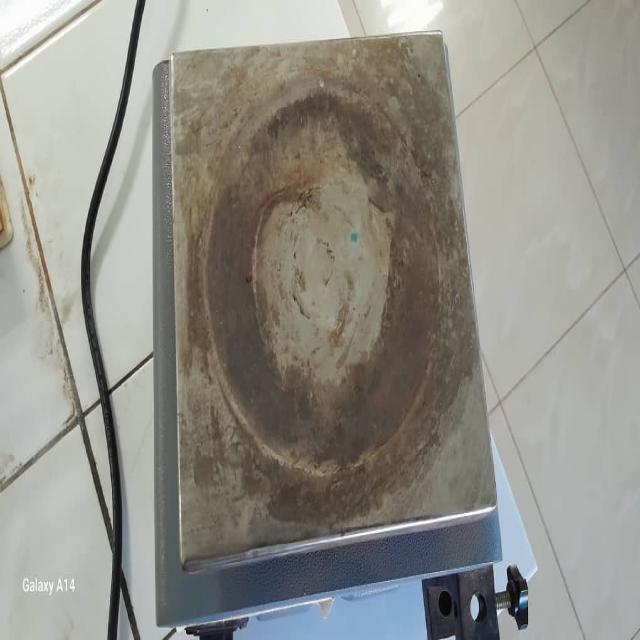Magnetic Stirrer: (139, 33, 500, 605)
